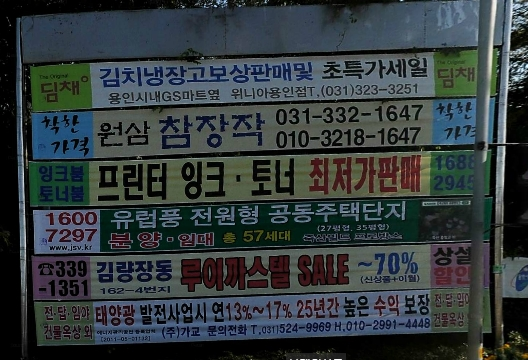banner: (17, 276, 519, 354), (10, 189, 520, 262), (12, 91, 512, 164), (10, 240, 514, 309), (15, 142, 502, 209), (16, 56, 511, 102)
